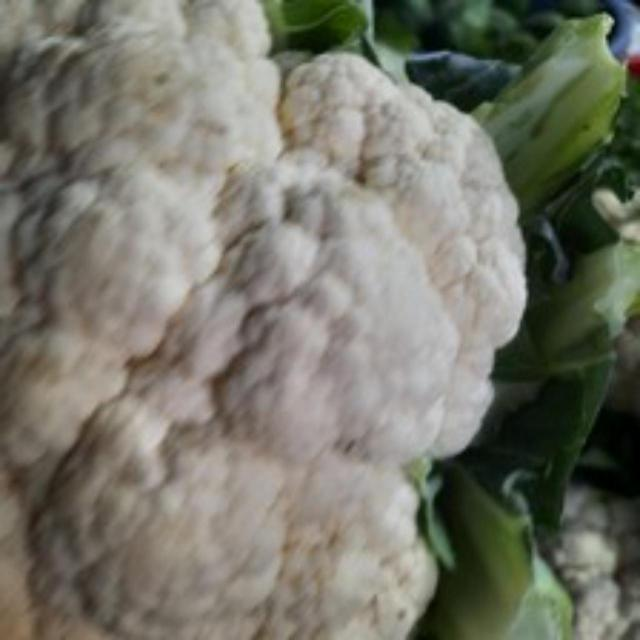cauliflower: (0, 0, 534, 637)
